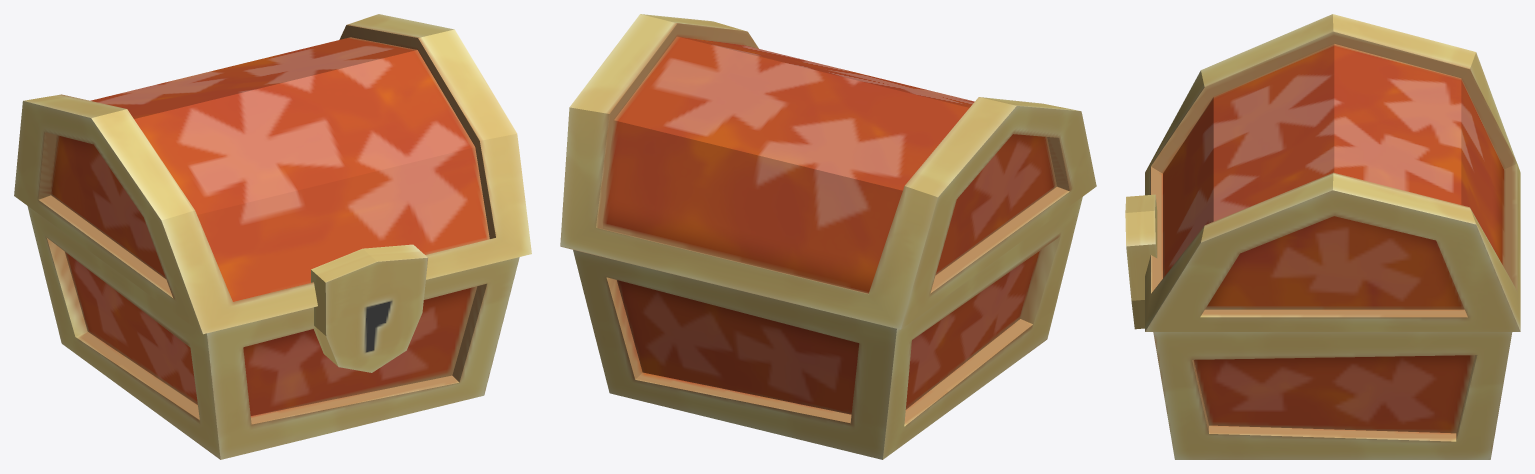
File: treasure.fbx
3 views of the same model, side by side, from view 1: azimuth 30°, elevation 25°; view 2: azimuth 150°, elevation 25°; view 3: azimuth 270°, elevation 25° (orthographic). The views are drawn at different scales.
Parts seen in each view (by area): view 1: treasure; view 2: treasure; view 3: treasure.
Part boxes in pixels (x1,y1,x2,y2): treasure: [14, 14, 531, 459]; treasure: [560, 14, 1096, 459]; treasure: [1125, 14, 1520, 459].
Bounding box in the file's own units: 2.79 × 2.17 × 2.64.
